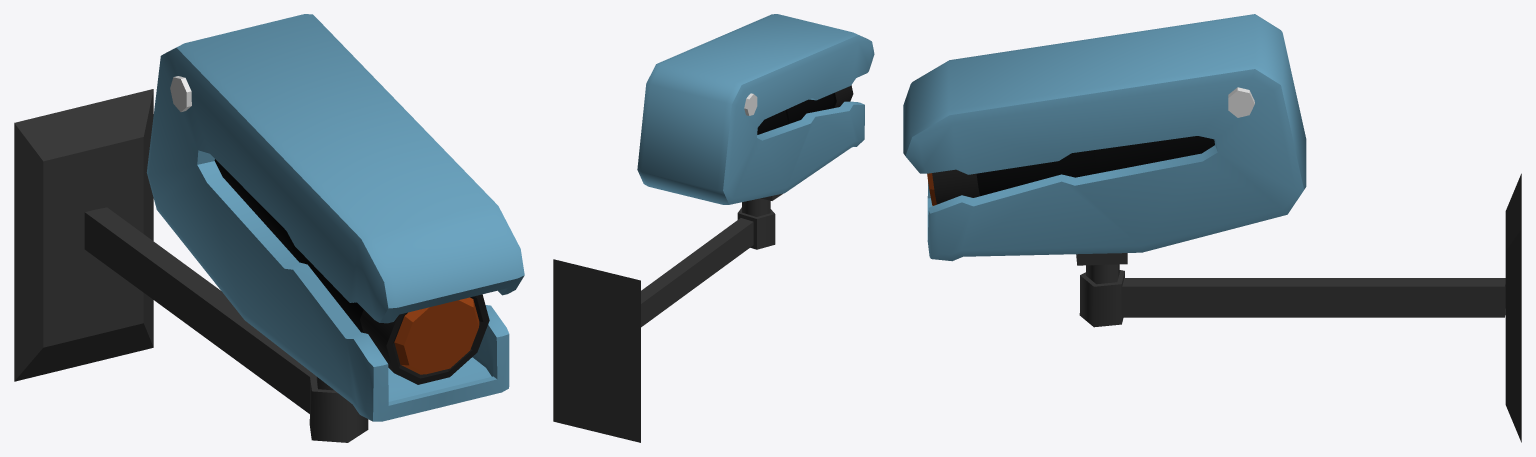
The model's file is KF_Kalonji_SM_Rooftop_SecurityCamera_01.fbx.
3 views of the same model, side by side, from view 1: azimuth 30°, elevation 25°; view 2: azimuth 150°, elevation 25°; view 3: azimuth 270°, elevation 25° (orthographic). The views are drawn at different scales.
Parts seen in each view (by area): view 1: Outside, Stand, Stick, Glass, Inside, Cylinder003; view 2: Outside, Stand, Stick, Inside; view 3: Outside, Stick, Inside, Stand, Cylinder003, Object001.
Part boxes in pixels (bbox=[...]): Outside: bbox=[146, 14, 524, 421]; Stand: bbox=[14, 89, 153, 381]; Stick: bbox=[84, 207, 368, 442]; Glass: bbox=[394, 297, 479, 374]; Inside: bbox=[214, 159, 489, 384]; Cylinder003: bbox=[170, 76, 191, 111]; Outside: bbox=[637, 14, 874, 204]; Stand: bbox=[553, 259, 640, 442]; Stick: bbox=[641, 198, 775, 327]; Inside: bbox=[757, 85, 853, 134]; Outside: bbox=[903, 14, 1306, 261]; Stick: bbox=[1079, 264, 1505, 327]; Inside: bbox=[932, 136, 1214, 204]; Stand: bbox=[1505, 173, 1521, 442]; Cylinder003: bbox=[1228, 87, 1254, 117]; Object001: bbox=[1076, 253, 1127, 265].
Bounding box in the file's own units: 16.12 × 45.04 × 67.29.
